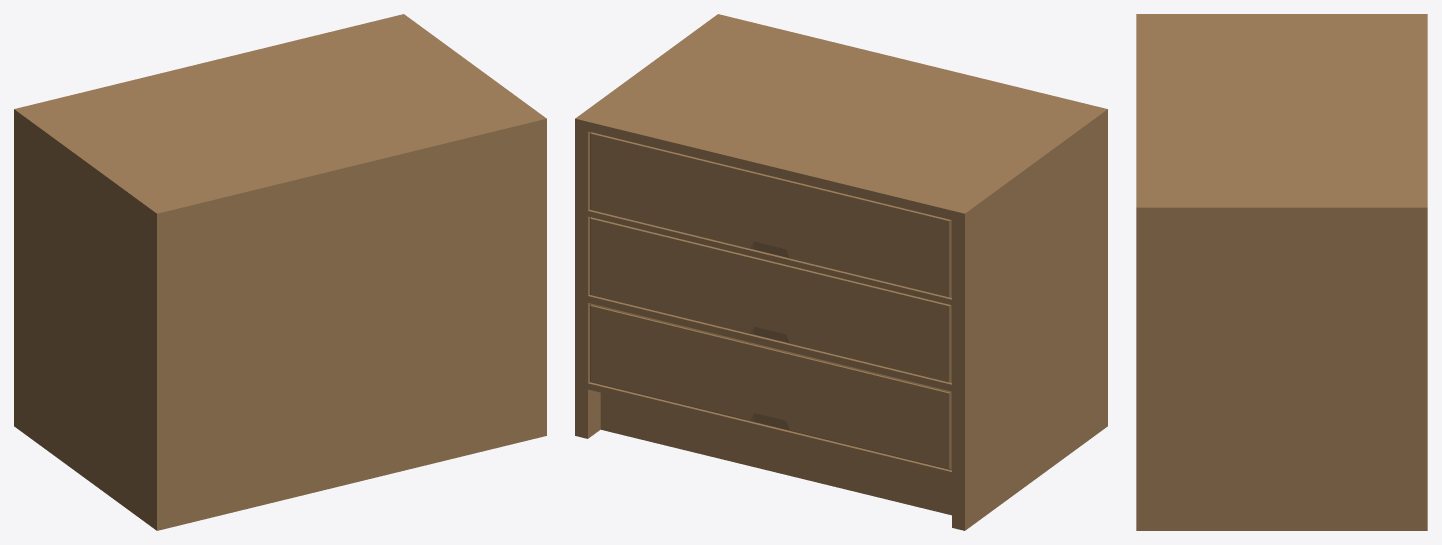
Rendered from cabinet01.fbx.
3 views of the same model, side by side, from view 1: azimuth 30°, elevation 25°; view 2: azimuth 150°, elevation 25°; view 3: azimuth 270°, elevation 25° (orthographic).
Visible parts, largest first — view 1: pasted__polySurface43; view 2: pasted__polySurface43; view 3: pasted__polySurface43.
Boxes of the visible parts, x1,y1,x2,y2 form: pasted__polySurface43: [14, 14, 546, 530]; pasted__polySurface43: [575, 14, 1107, 530]; pasted__polySurface43: [1136, 14, 1427, 530].
Size of the model in its own units: 80.54 by 62.62 by 51.16.
